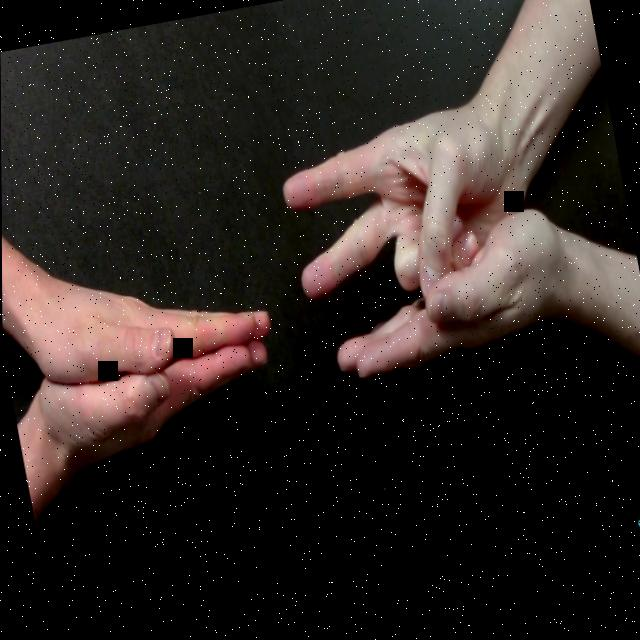Paper: (18, 237, 276, 396)
Scissors: (271, 93, 539, 310)
